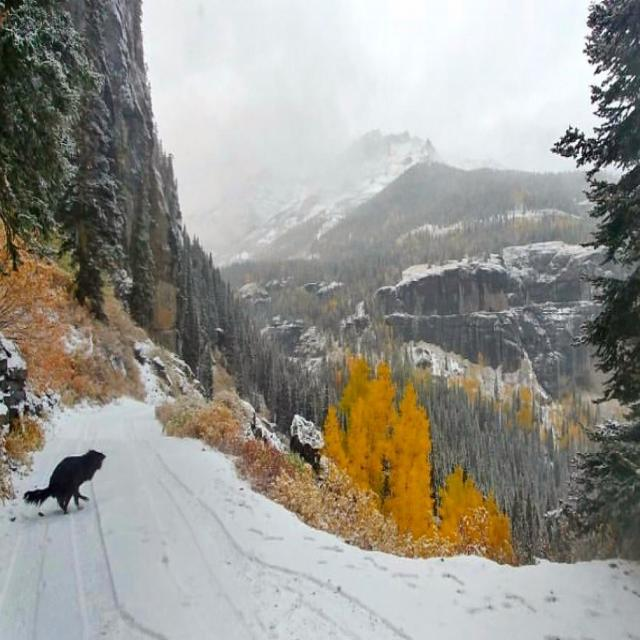squatting: (21, 442, 109, 518)
